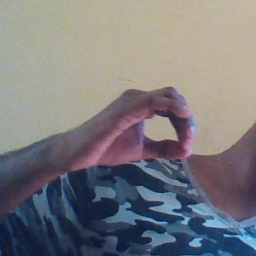O: (66, 80, 197, 175)
